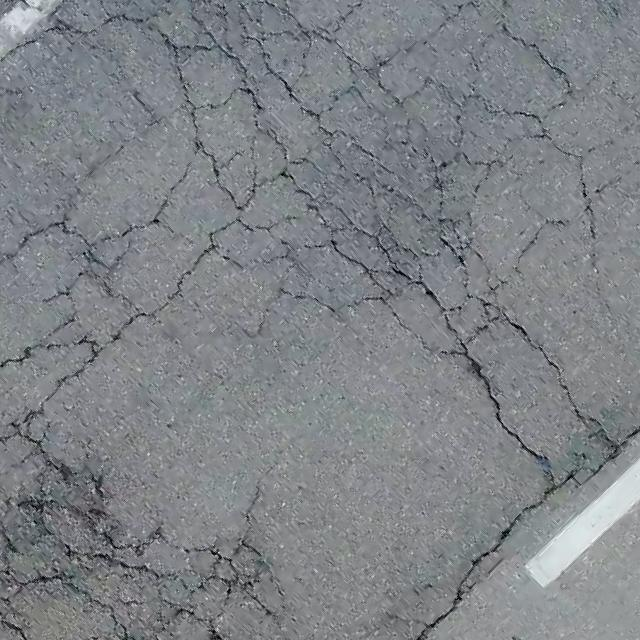GRIETA: (414, 488, 560, 639), (239, 478, 262, 538)
PIEL DE COCODRILO: (0, 0, 639, 497), (0, 428, 294, 639)
